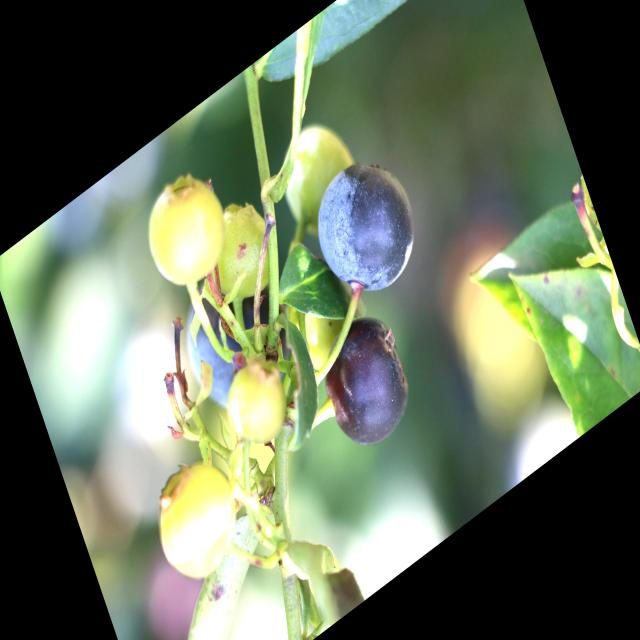blueberry: (173, 234, 302, 424), (300, 133, 429, 322), (314, 301, 419, 465)
blueberry-unripe: (143, 443, 249, 598), (132, 155, 238, 308), (268, 104, 366, 244), (199, 189, 286, 322), (218, 348, 294, 462)
